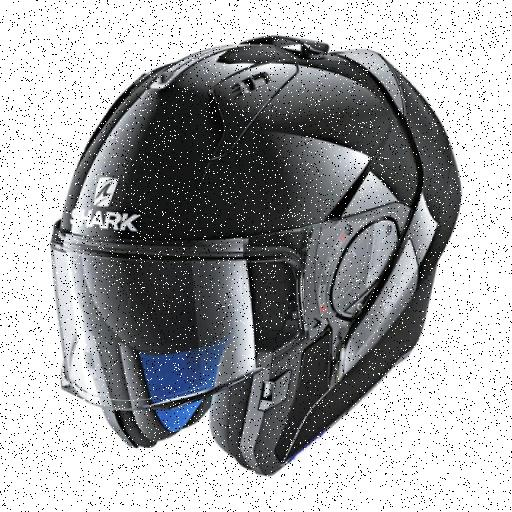Helmet: (60, 35, 454, 478)
